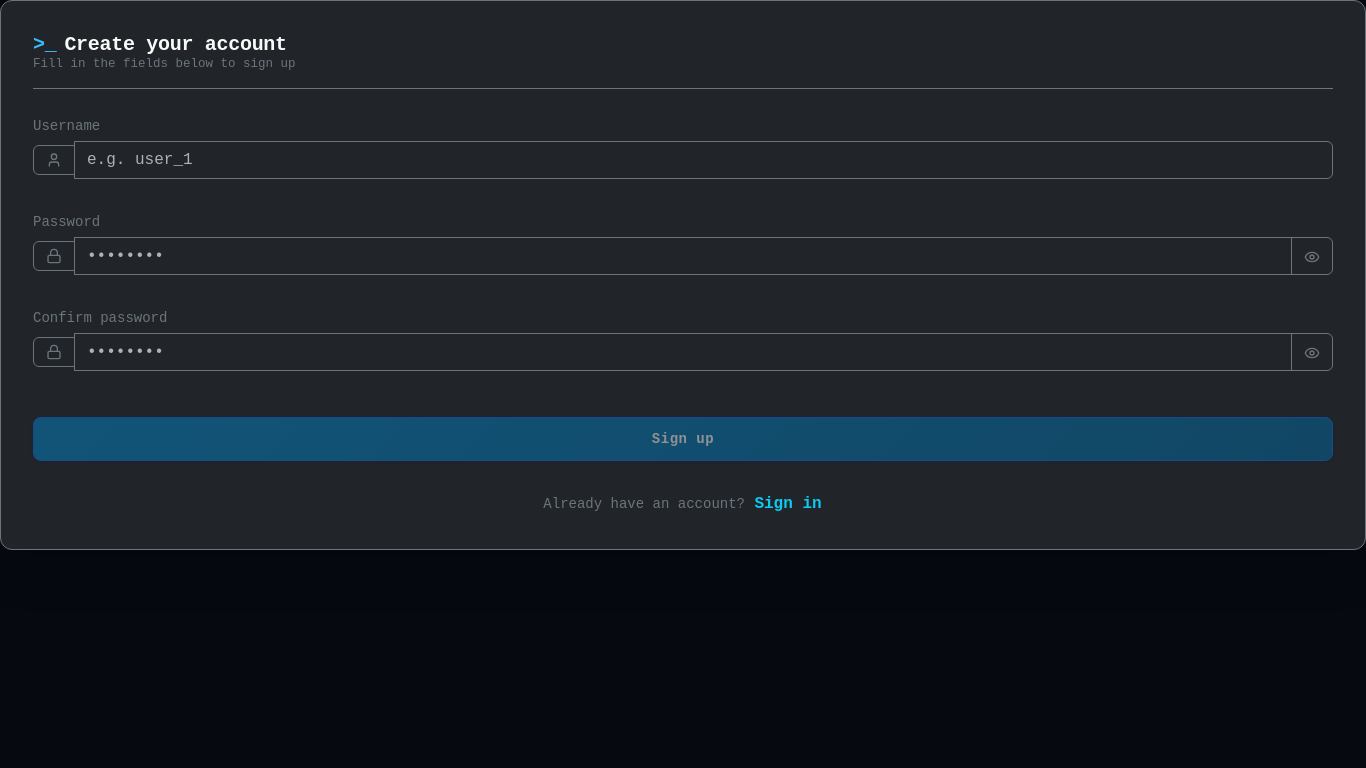
Test: RegisterForm › rejects passwords shorter than four characters
Type "alice" into the field labelled "Username".
click(704, 160); type("alice")  # box [74,141,1333,179]
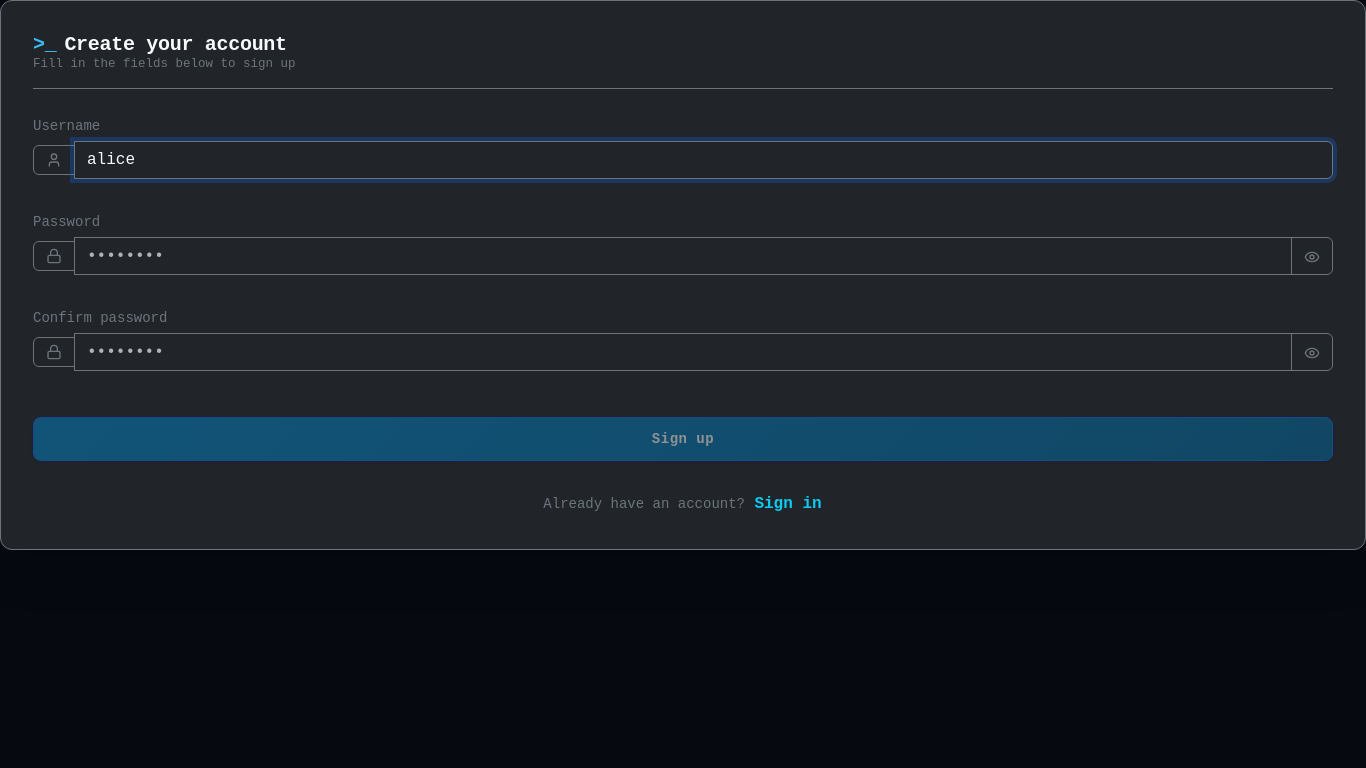
Type "abc" into the password field labelled "Password".
click(683, 256); type("abc")  # box [74,237,1292,275]
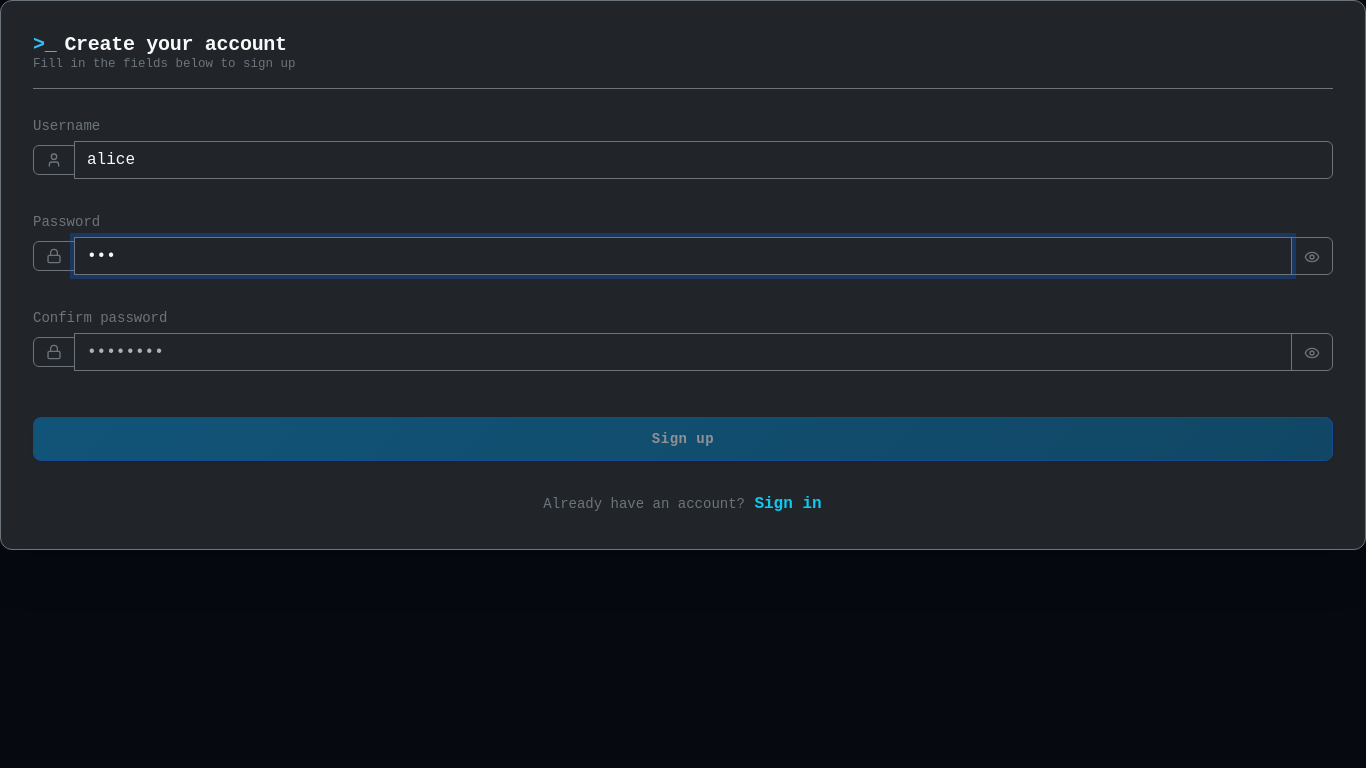
Type "abc" into the password field labelled "Confirm password".
click(683, 352); type("abc")  # box [74,333,1292,371]
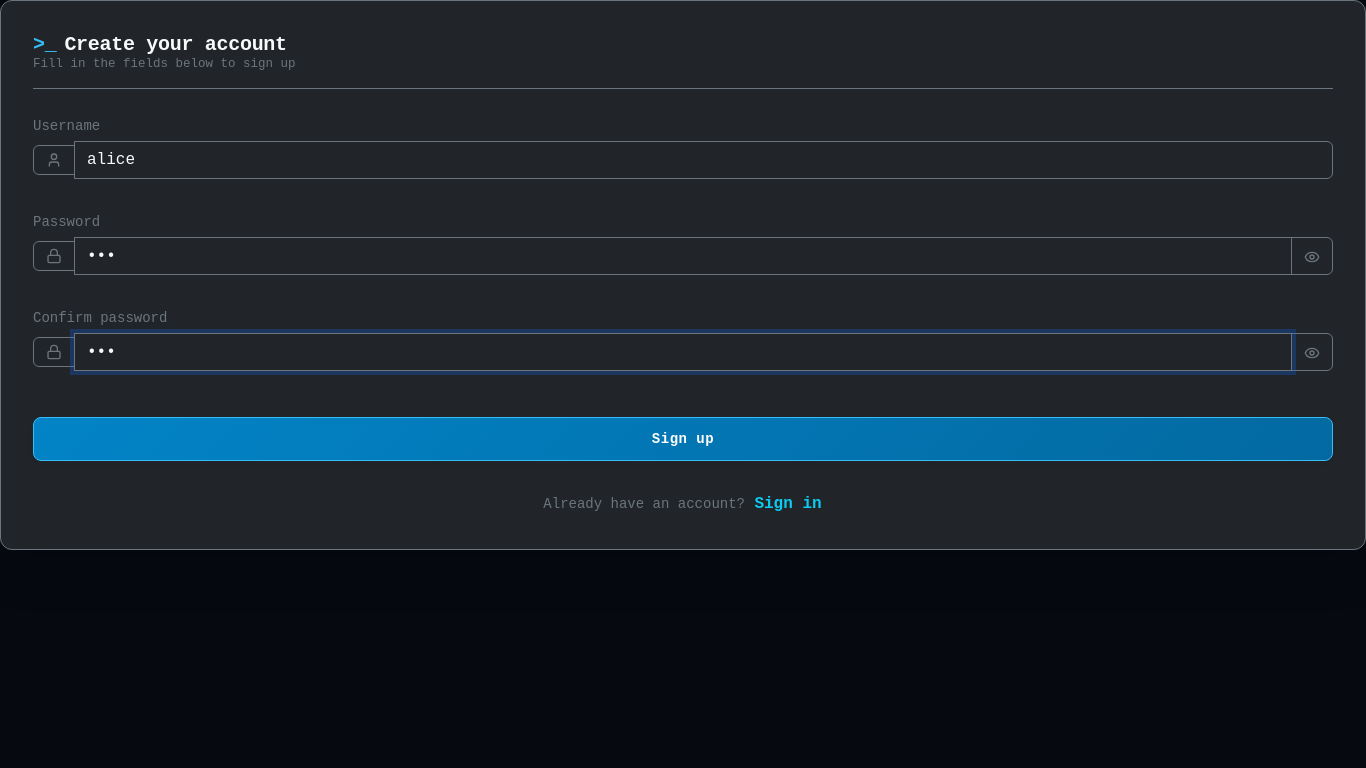
Click the button "Sign up".
click(683, 439)  # box [33,417,1333,461]
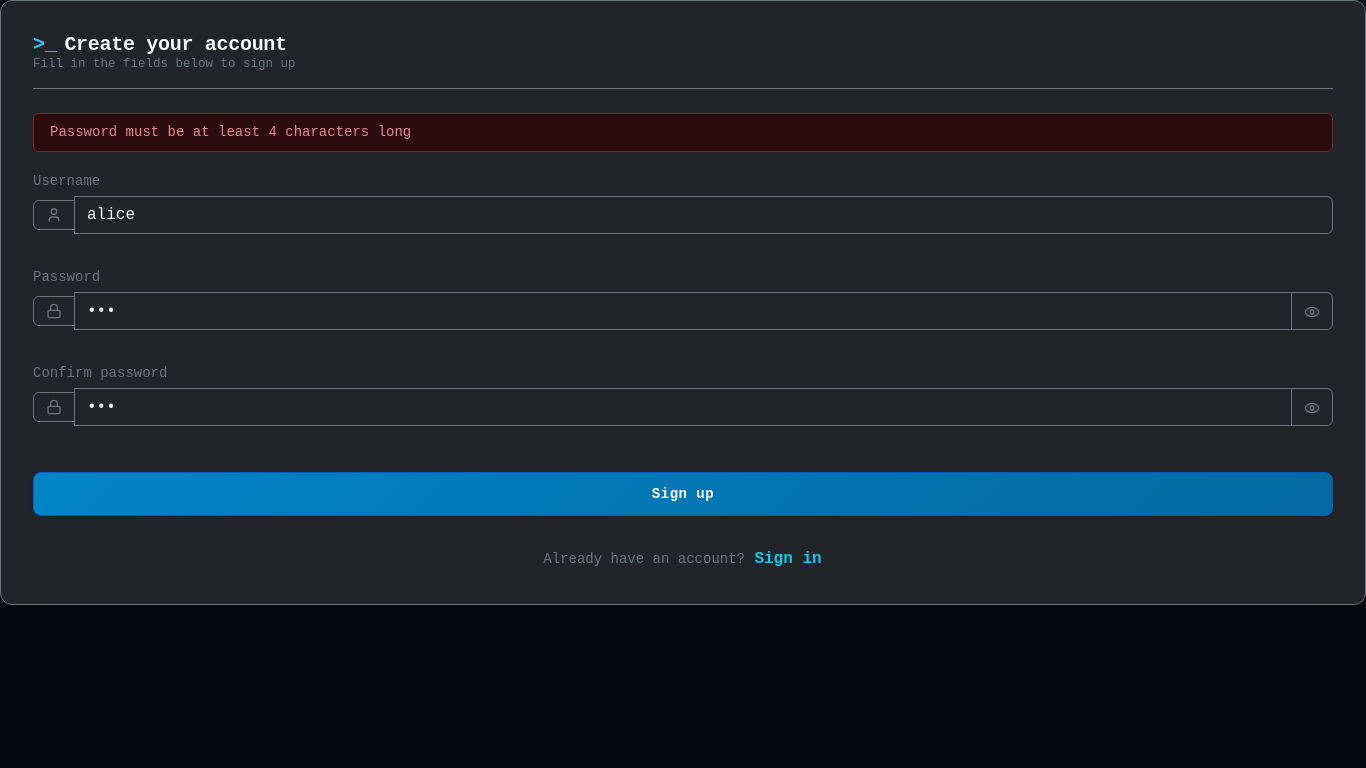
Expected: the text "Password must be at least 4 characters long" is shown, [50,122,411,143]
